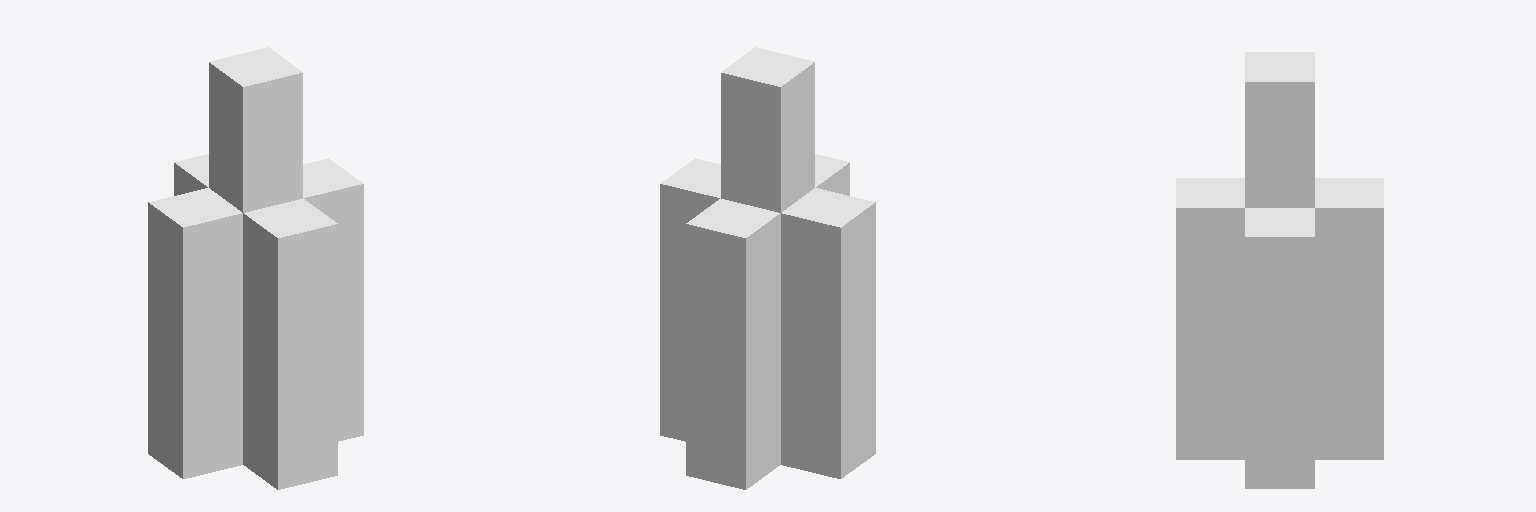
Rendered from misc:wine-bottle-2.obj.
The picture shows the model from 3 angles: view 1: azimuth 30°, elevation 25°; view 2: azimuth 150°, elevation 25°; view 3: azimuth 270°, elevation 25°; orthographic projection.
Parts seen in each view (by area): view 1: misc:wine-bottle-2; view 2: misc:wine-bottle-2; view 3: misc:wine-bottle-2.
Part boxes in pixels (x1,y1,x2,y2): misc:wine-bottle-2: (148, 47, 363, 489); misc:wine-bottle-2: (660, 47, 875, 489); misc:wine-bottle-2: (1176, 52, 1383, 488).
Size of the model in its own units: 3 by 6 by 3.